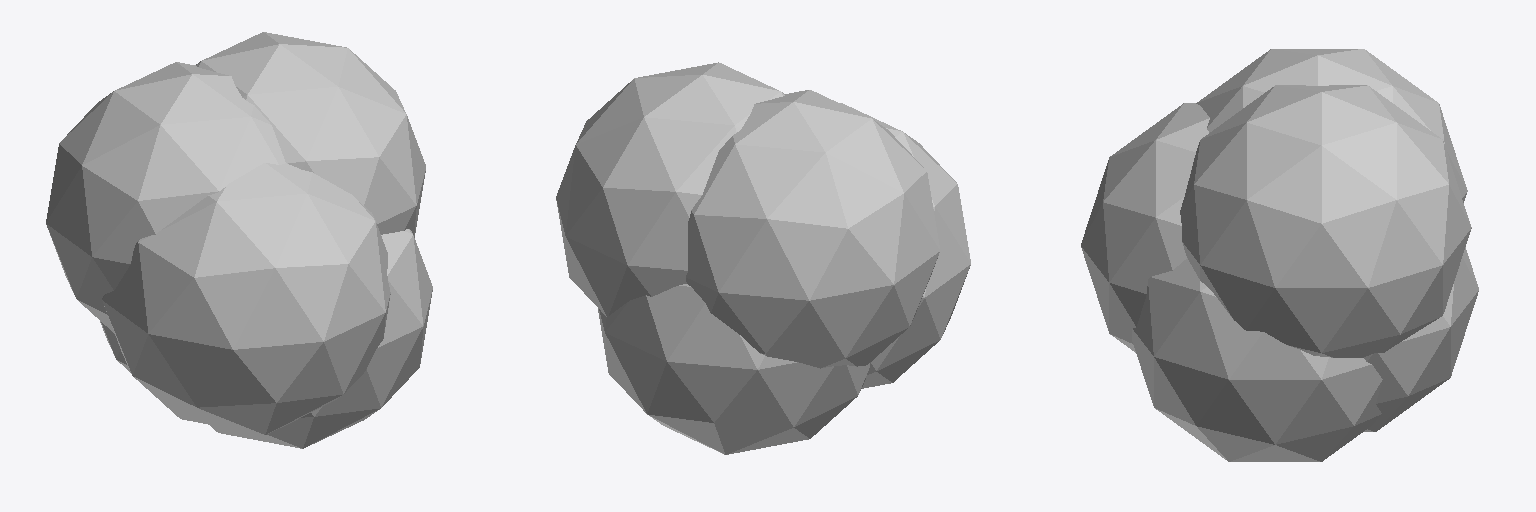
The model's file is atom_center.obj.
3 renders of one model, left to right at view 1: azimuth 30°, elevation 25°; view 2: azimuth 150°, elevation 25°; view 3: azimuth 270°, elevation 25°, orthographic.
Visible parts, largest first — view 1: Icosphere.001, Icosphere.003, Icosphere.002, Icosphere.004; view 2: Icosphere.003, Icosphere.002, Icosphere, Icosphere.001; view 3: Icosphere.002, Icosphere.004, Icosphere.001, Icosphere.003, Icosphere.
Part boxes in pixels (x1,y1,x2,y2): Icosphere.001: (102, 163, 390, 434); Icosphere.003: (46, 62, 285, 333); Icosphere.002: (196, 32, 425, 237); Icosphere.004: (210, 229, 432, 448); Icosphere.003: (686, 90, 939, 368); Icosphere.002: (556, 62, 784, 316); Icosphere: (598, 284, 869, 454); Icosphere.001: (840, 103, 970, 388); Icosphere.002: (1180, 85, 1471, 357); Icosphere.004: (1132, 258, 1382, 461); Icosphere.001: (1081, 103, 1209, 352); Icosphere.003: (1196, 49, 1467, 202); Icosphere: (1364, 247, 1478, 431).
Bounding box in the file's own units: 1.34 × 1.42 × 1.38.